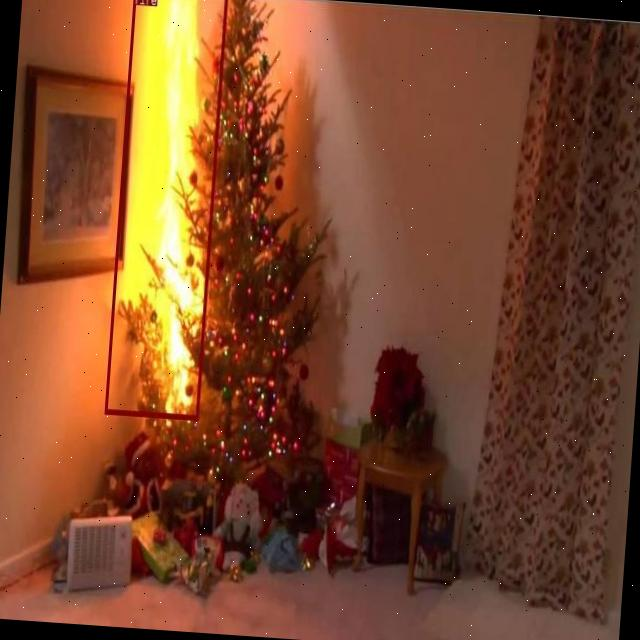fire: (103, 0, 228, 420)
